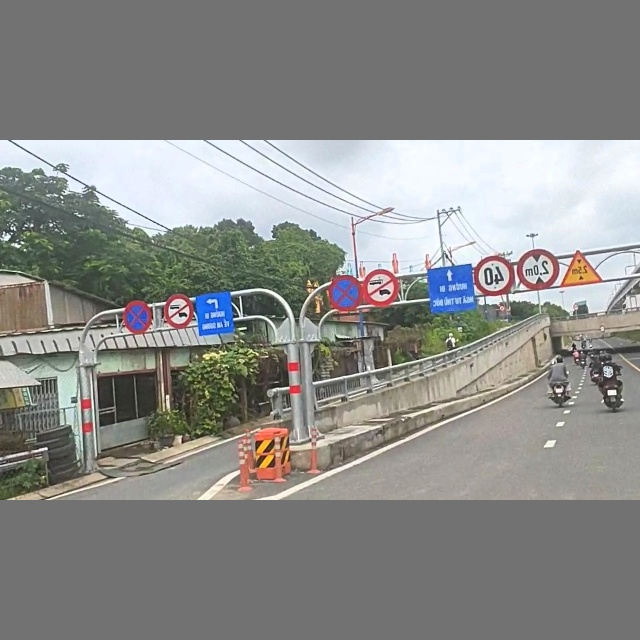P.107: (363, 268, 399, 307), (163, 293, 195, 329)
P.117*: (515, 249, 559, 291)
P.127*40: (473, 256, 513, 295)
P.130: (327, 275, 363, 311), (121, 300, 151, 335)
W.239b*: (559, 250, 605, 289)
